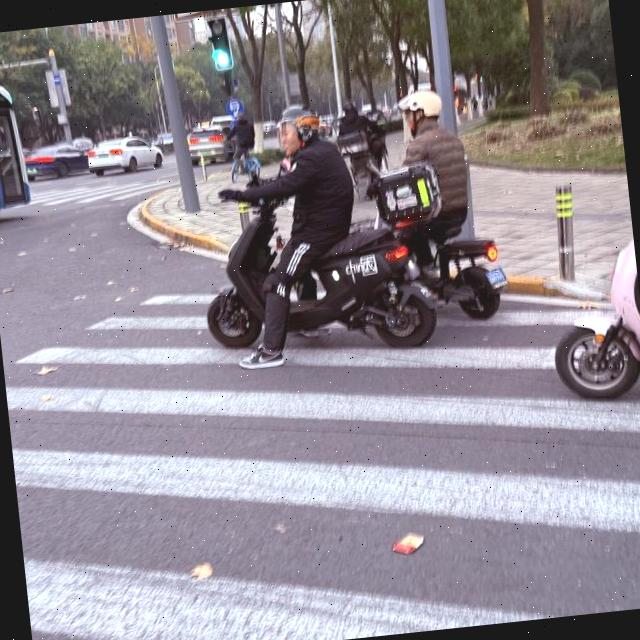curb: (136, 191, 230, 257), (504, 274, 607, 302)
